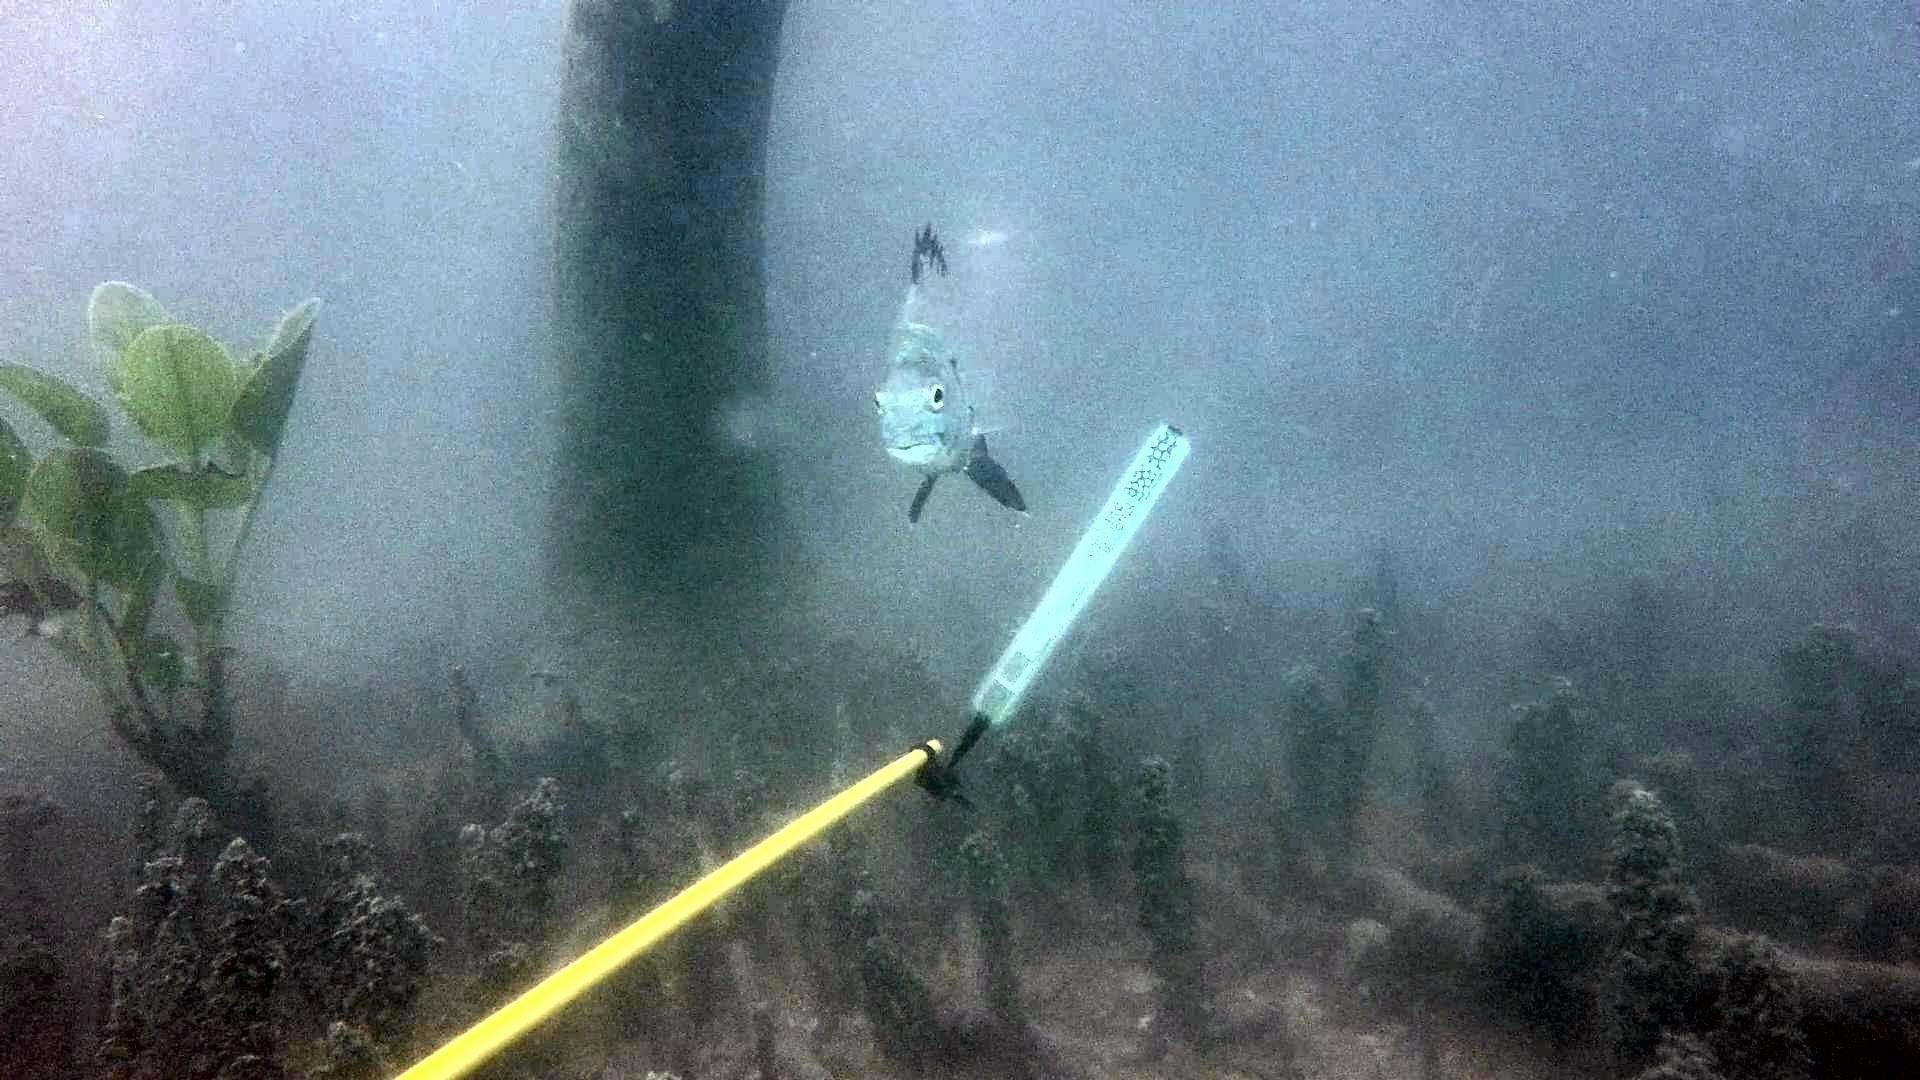acanthopagrus palmaris: (876, 220, 1034, 527)
